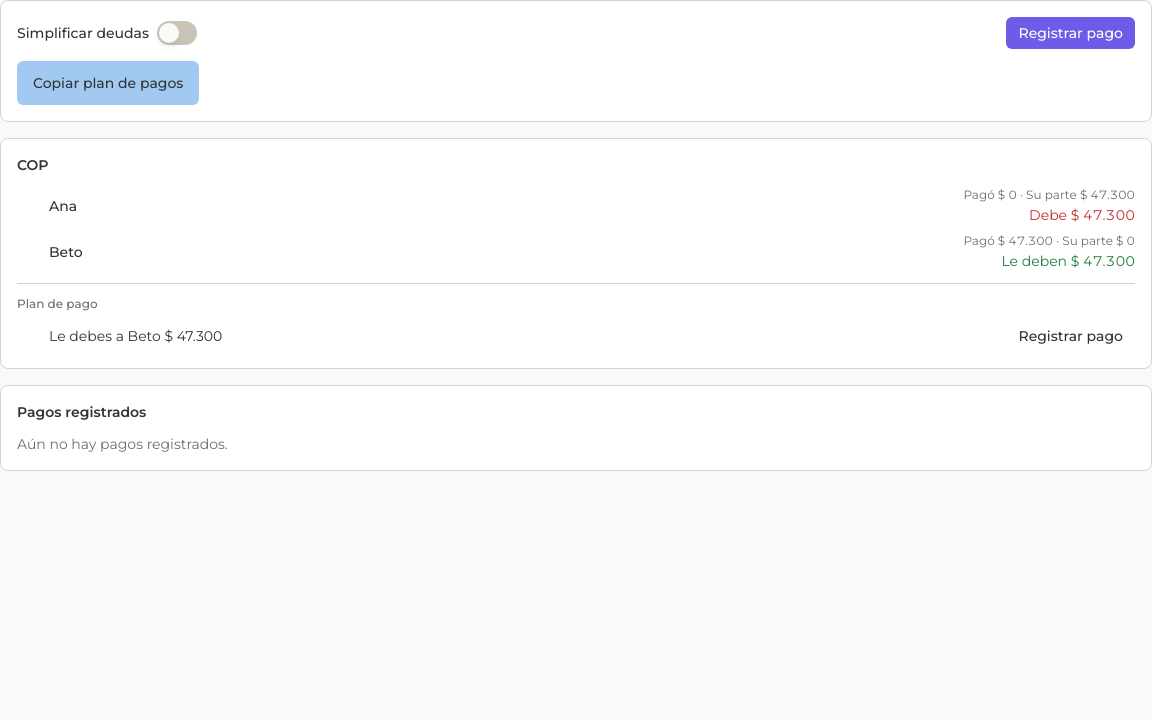
Test case: SettleUpDialog › rolls the optimistic row back and toasts when the write fails
The image size is (1152, 720).
Click the button "Registrar pago" in the row of "Simplificar deudas" at (1071, 33), box [1006,17,1135,49]
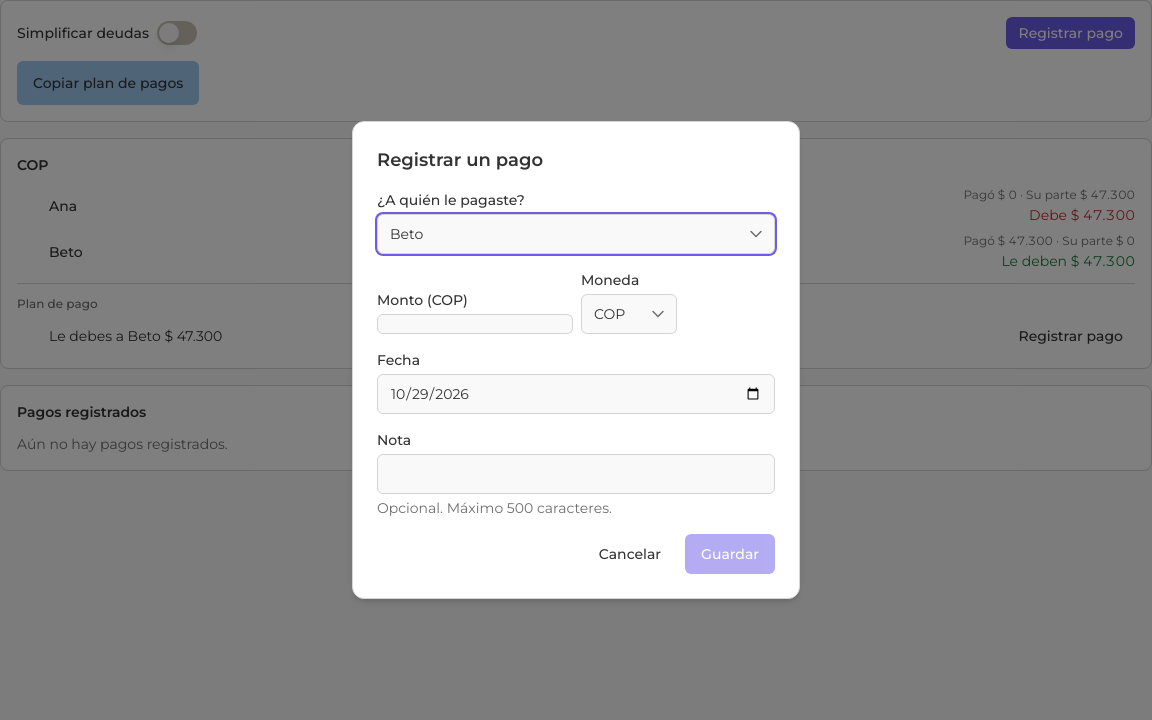
Type "10000" into the field labelled "Monto (COP)" at (475, 324), box [377,314,573,334]
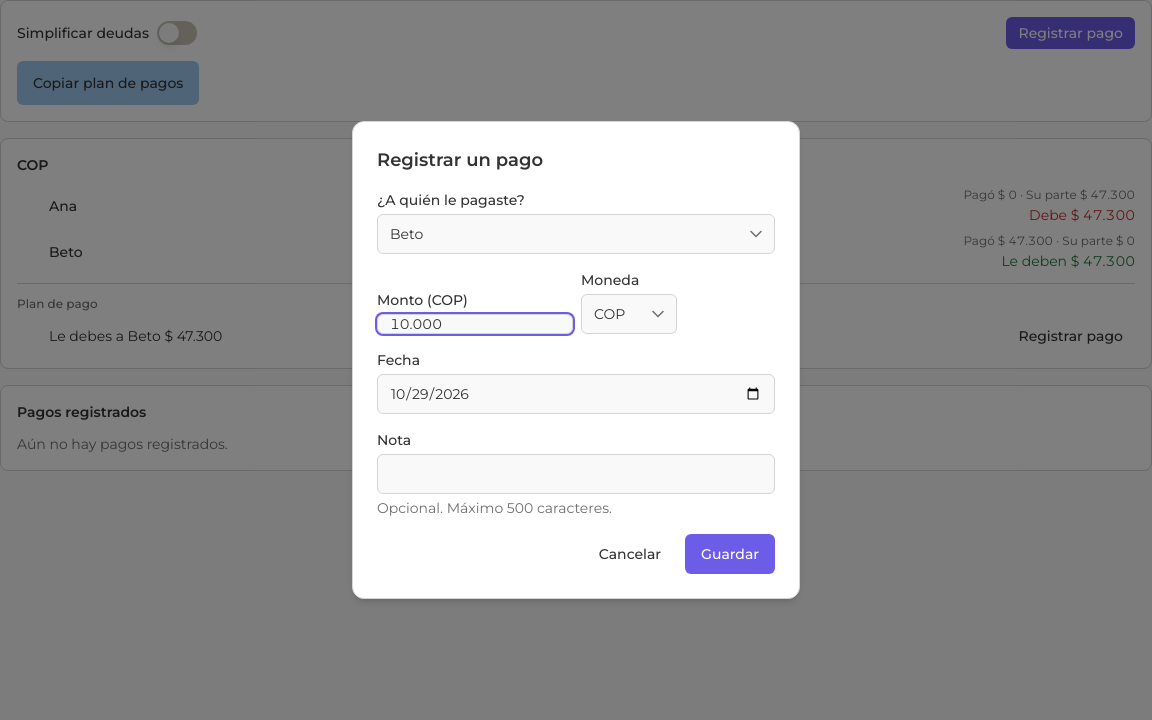
Click the button "Guardar" at (730, 554), box [685,534,775,574]
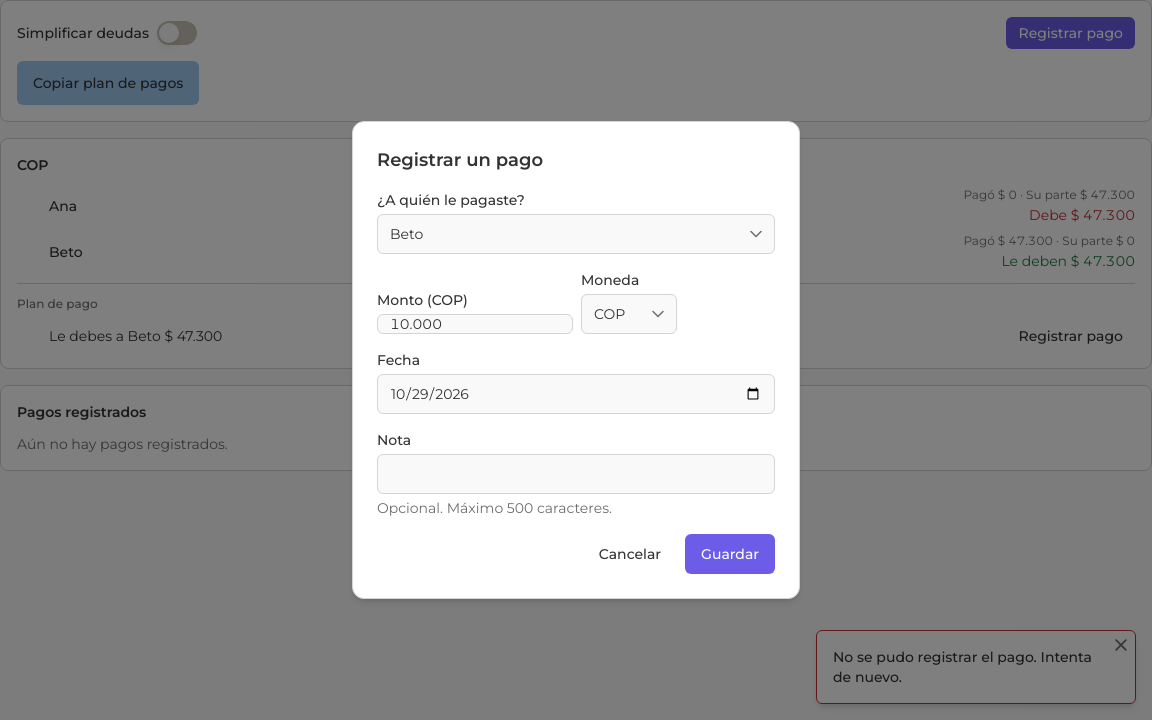
expect the text "Aún no hay pagos registrados." is shown: met, box [17,435,228,453]
expect the heading "No se pudo registrar el pago. Intenta de nuevo." is shown: met, box [833,647,1103,687]
